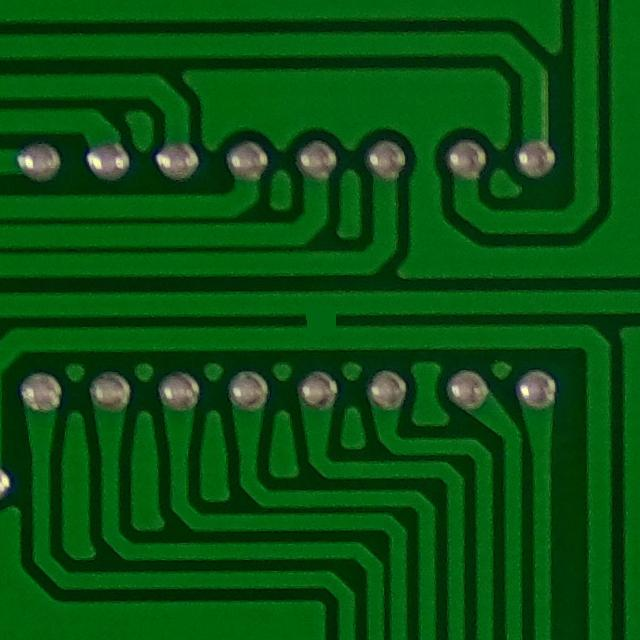short: (280, 285, 361, 356)
